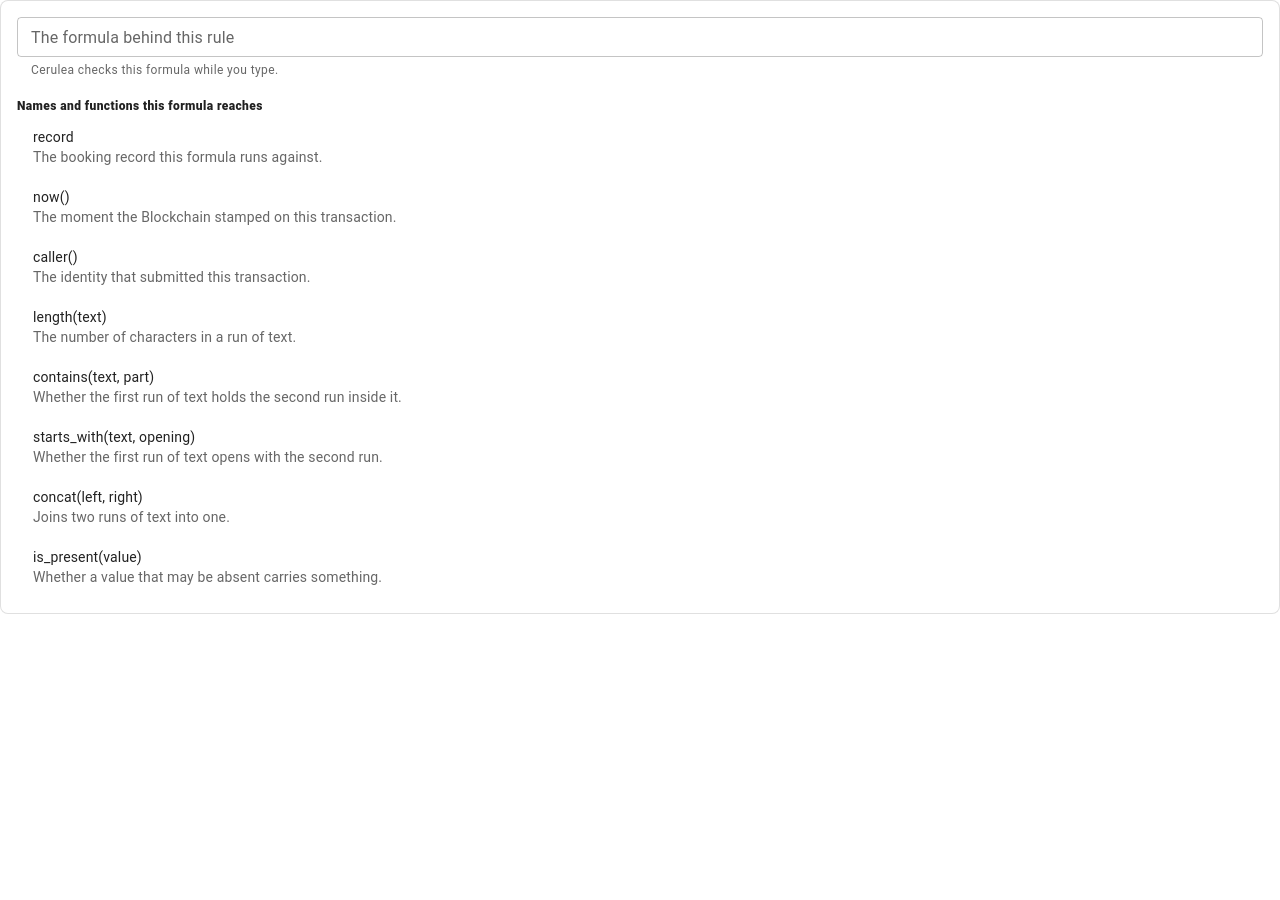
Scenario: the formula bar › offers the fields of the record after a stop
In the field labelled "The formula behind this rule": (640, 37) [17, 17, 1263, 57], type "record."
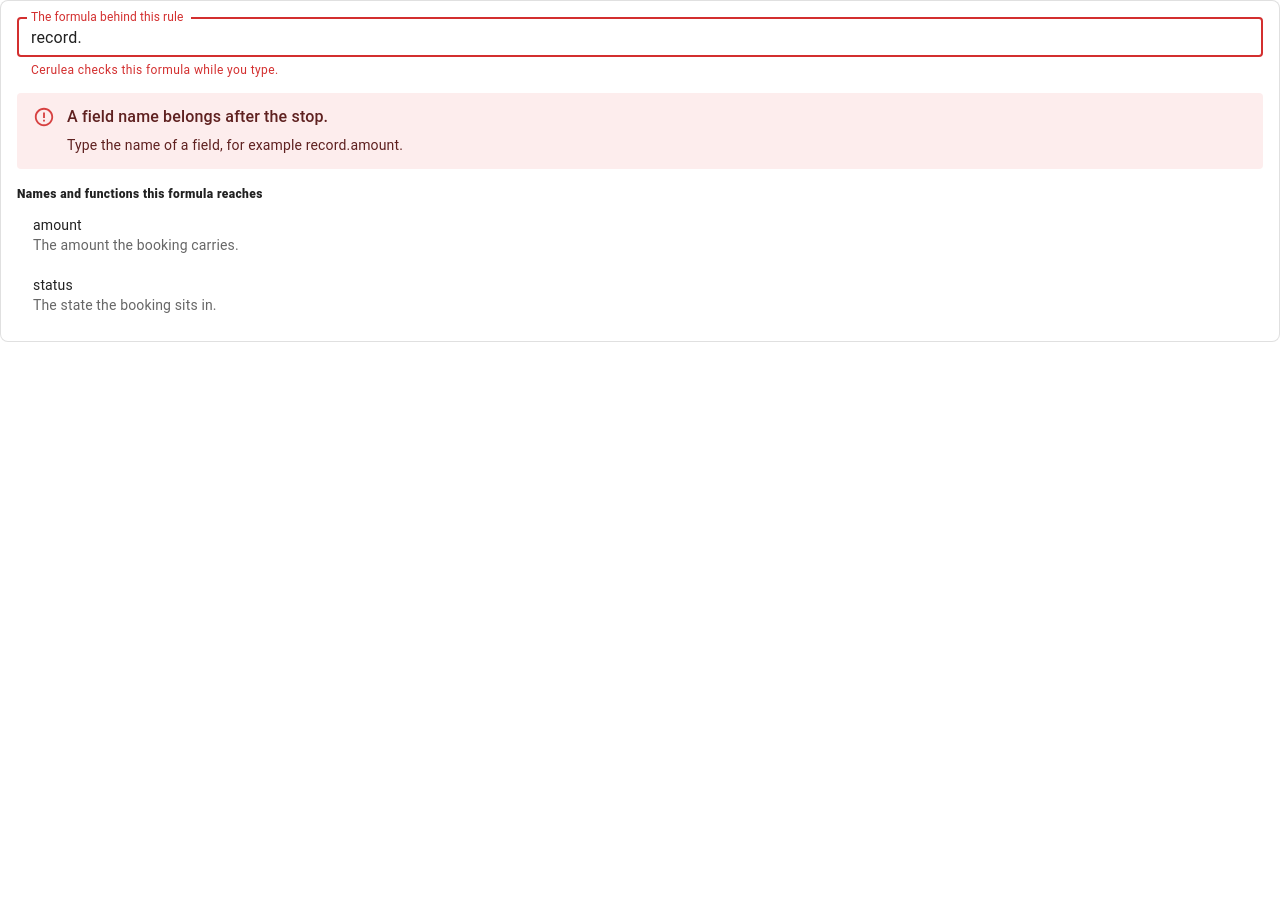
Now the text "amount" is shown, box [33, 216, 82, 232]
Now the text "The amount the booking carries." is shown, box [33, 236, 239, 252]
